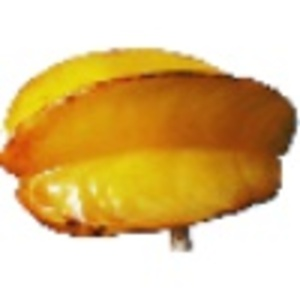carambola: (1, 45, 300, 254)
